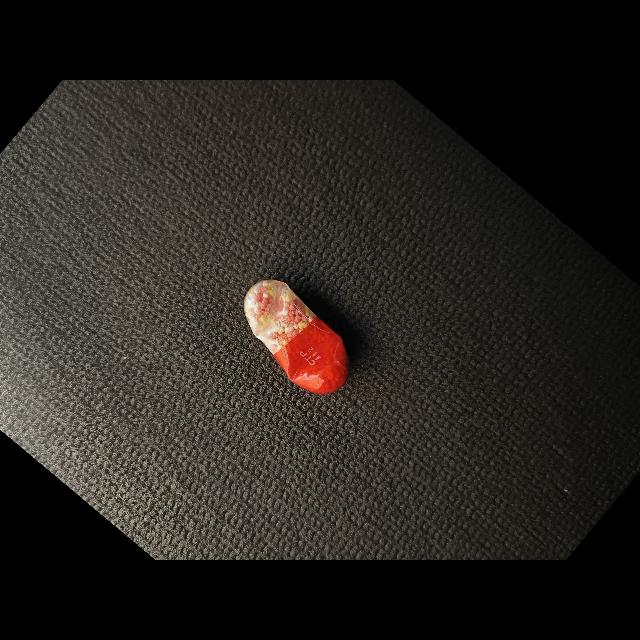Defective Capsule: (243, 280, 350, 394)
